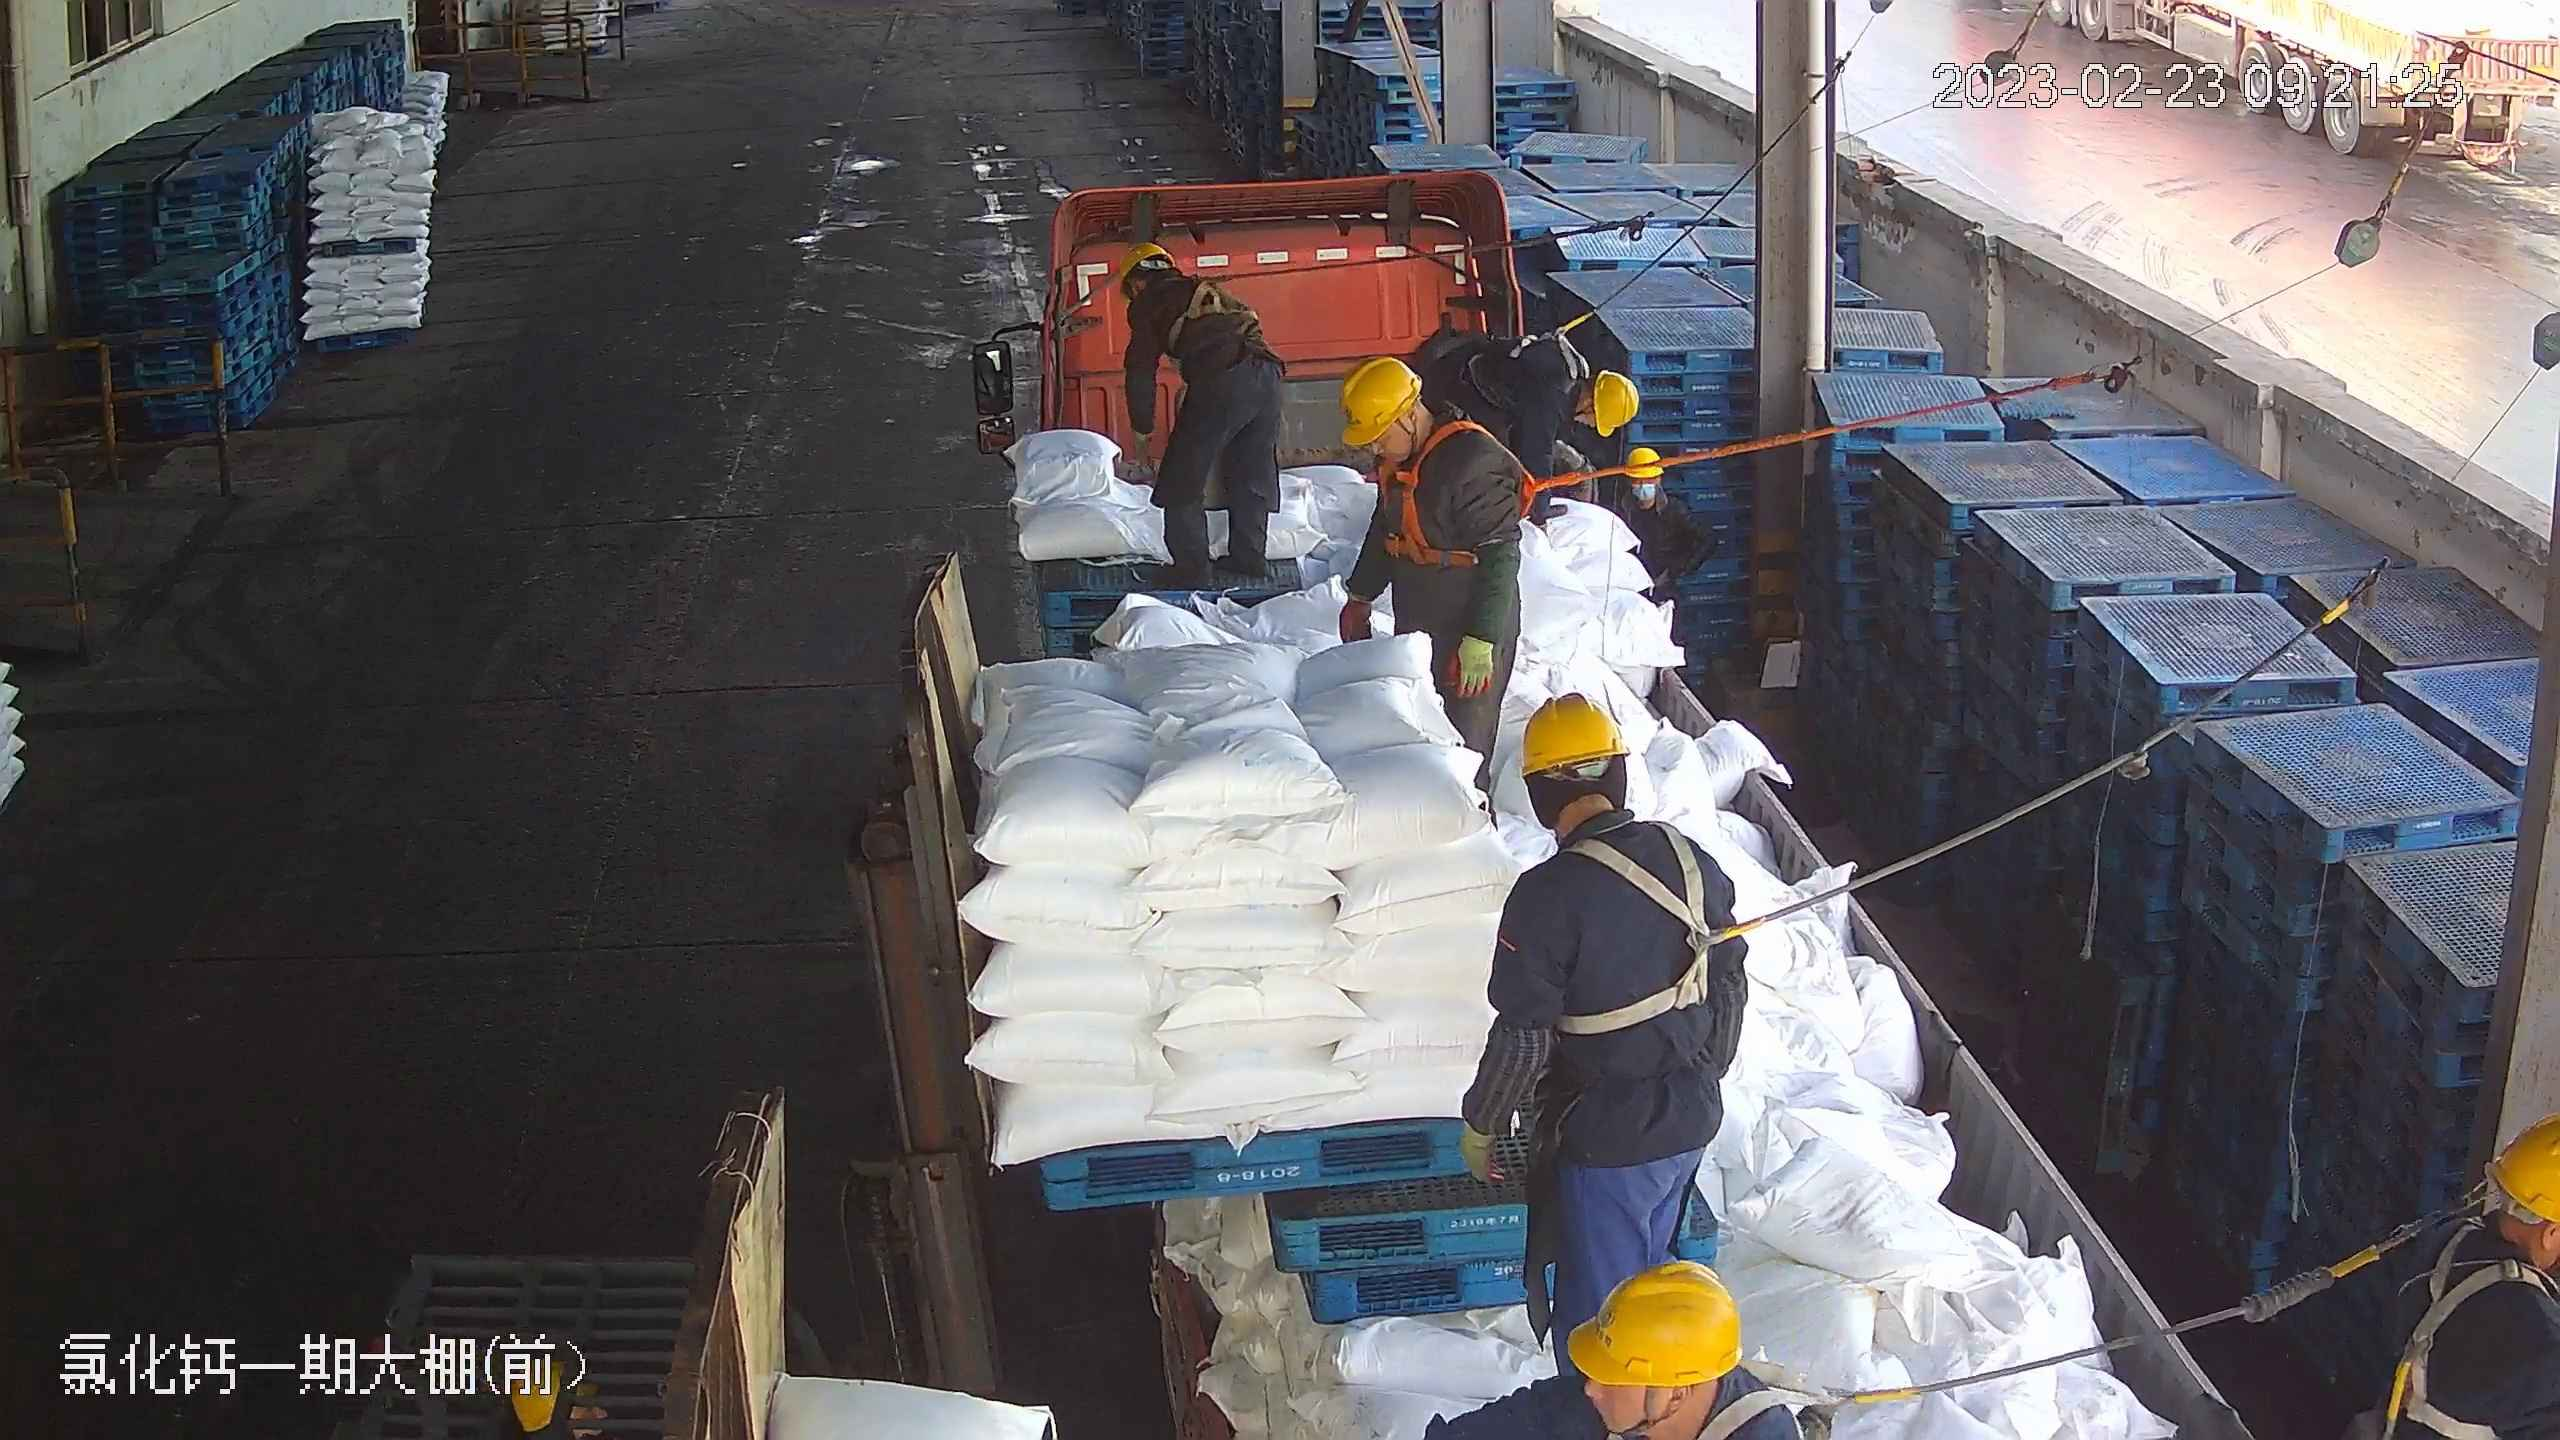belt: (1542, 816, 1718, 1036), (2394, 1216, 2547, 1426), (1370, 411, 1547, 579), (1692, 1362, 1858, 1432), (1498, 308, 1593, 378), (1157, 266, 1240, 338)
head: (1504, 686, 1740, 916), (1338, 356, 1513, 493), (1515, 324, 1636, 438), (1120, 244, 1232, 324)
helmet: (1577, 1259, 1747, 1383), (1515, 687, 1628, 775), (2486, 1107, 2557, 1241), (1338, 355, 1425, 440), (1588, 367, 1639, 437), (1115, 241, 1168, 287), (1618, 441, 1667, 481)
people: (1477, 679, 1750, 1363), (1327, 356, 1536, 796), (1113, 238, 1292, 585)
truck: (1004, 173, 2260, 1432)
